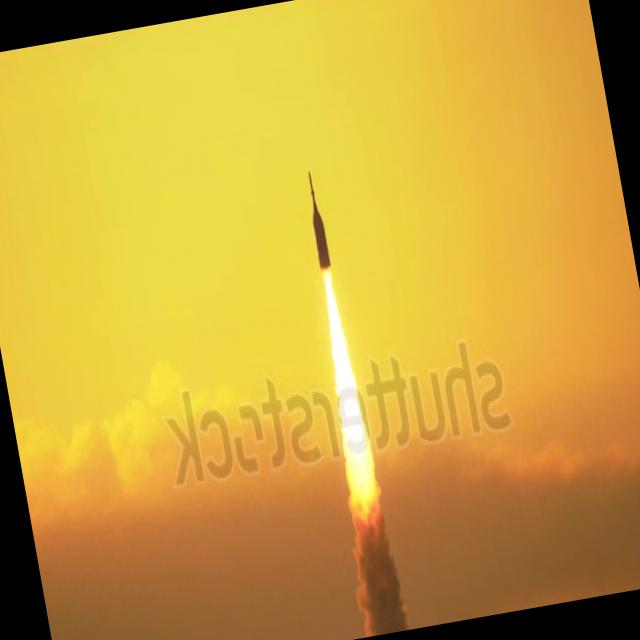rocket: (299, 158, 371, 463)
